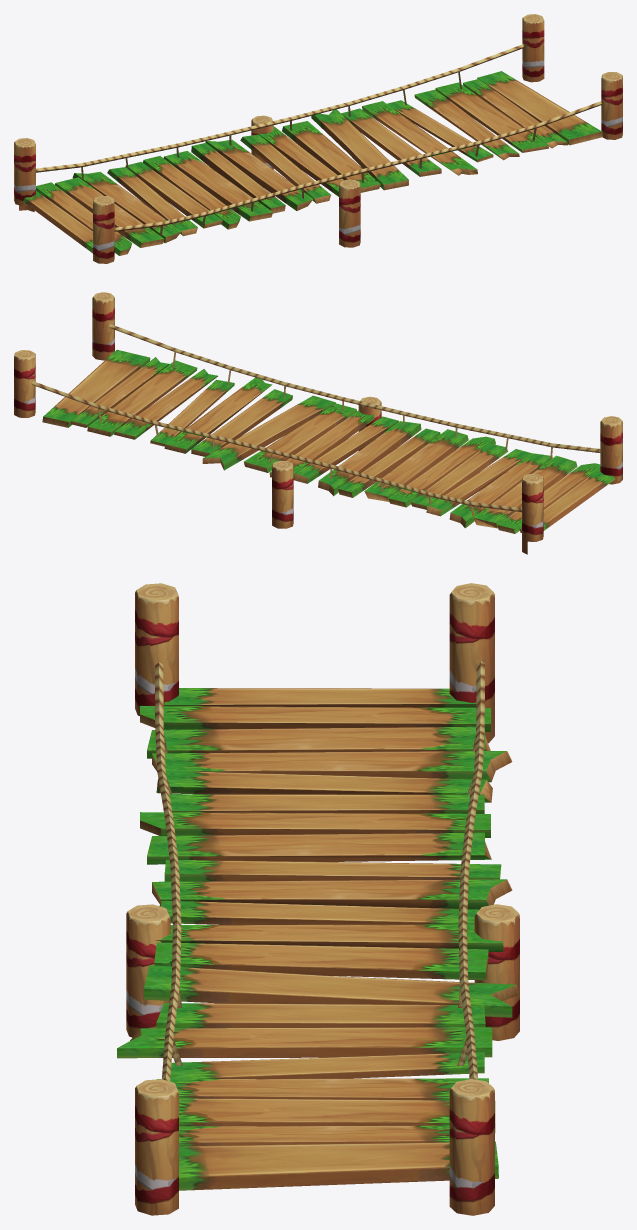
File: rc_01_bud_03.FBX
3 renders of one model, top to bottom at view 1: azimuth 30°, elevation 25°; view 2: azimuth 150°, elevation 25°; view 3: azimuth 270°, elevation 25°, orthographic. The views are drawn at different scales.
Parts seen in each view (by area): view 1: rc_01_bud_03; view 2: rc_01_bud_03; view 3: rc_01_bud_03.
Part boxes in pixels (x1,y1,x2,y2): rc_01_bud_03: (14, 14, 622, 263); rc_01_bud_03: (14, 292, 622, 554); rc_01_bud_03: (117, 583, 519, 1215).
Size of the model in its own units: 13419 by 4441 by 2451.
